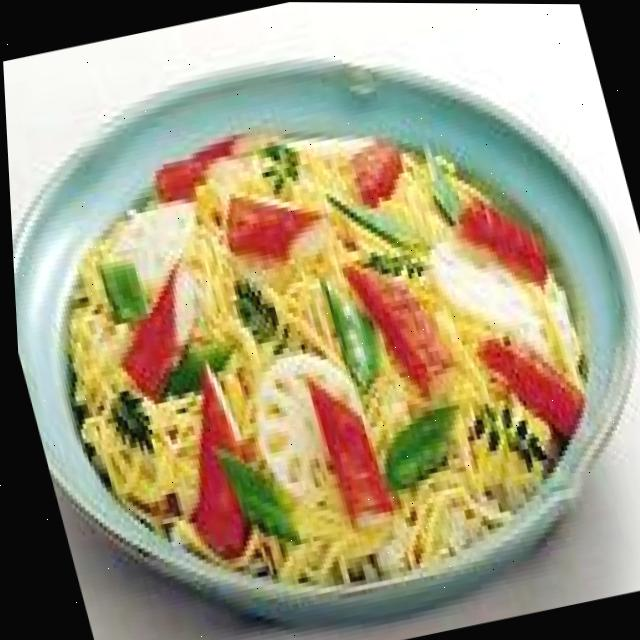寿司卷物: (3, 62, 637, 632)
